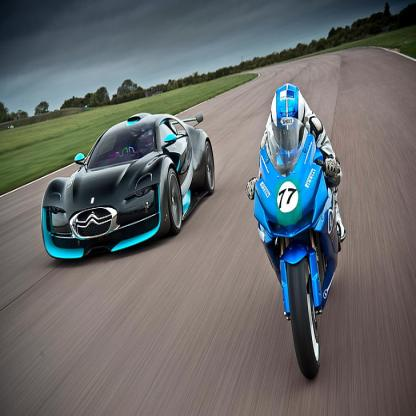bike: (252, 154, 348, 374)
car: (31, 108, 214, 254)
